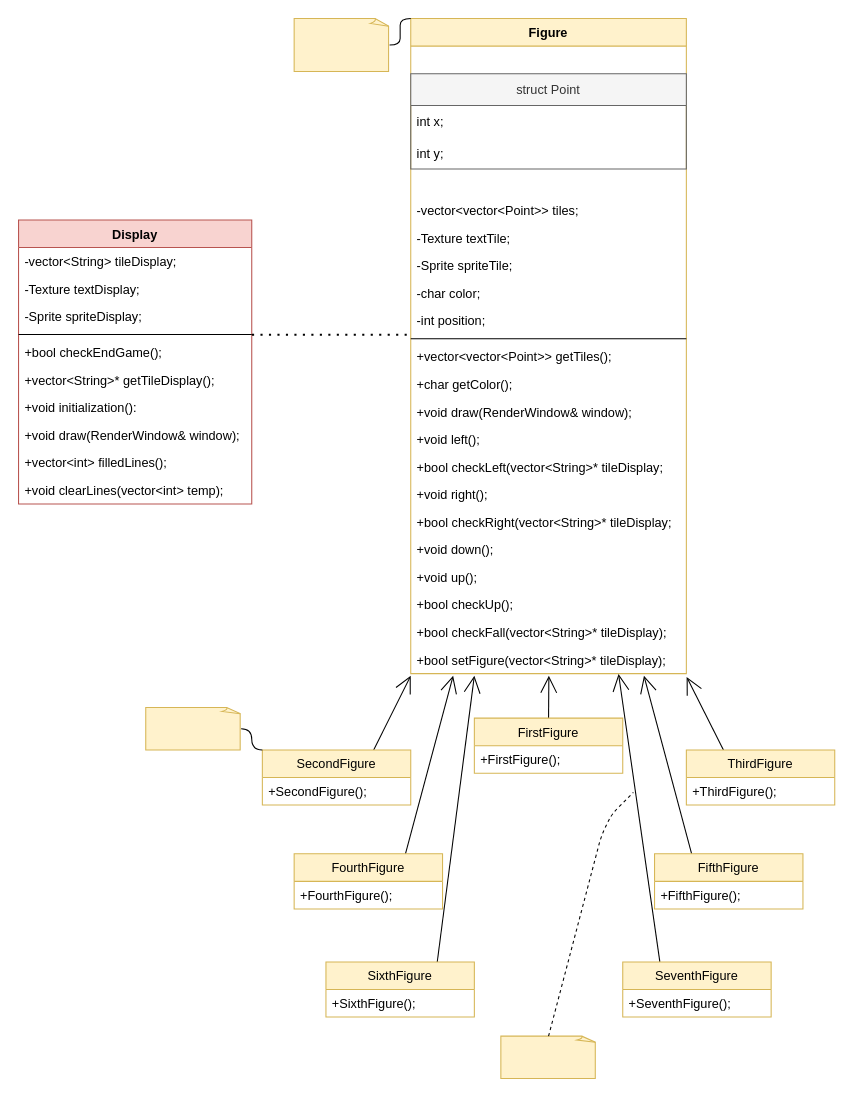
Image size: 853x1097. Some labels were removed from this diagram. Each missing label, with the centre of its shape:
Класс-потомок: the point at 193,728
Класс-родитель: the point at 341,44
связь наследования: the point at 548,1057
